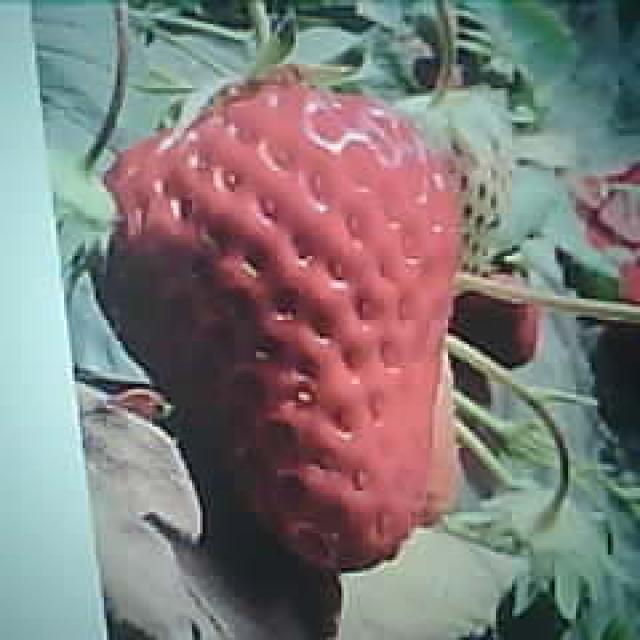ripe: (90, 75, 453, 575)
